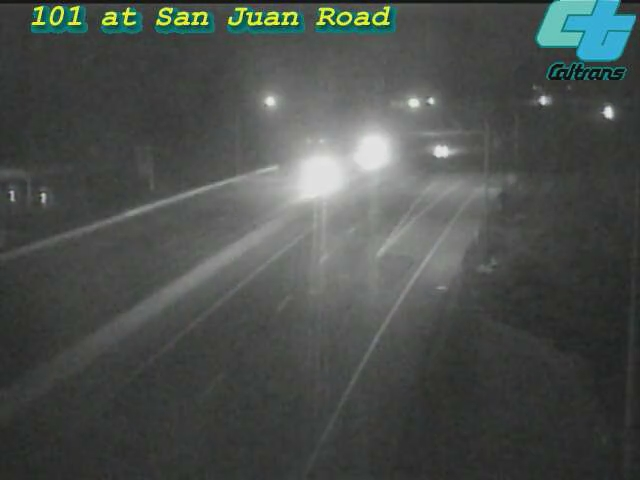vehicle: (280, 135, 360, 215), (336, 113, 416, 193), (401, 111, 481, 191), (583, 88, 633, 138)
